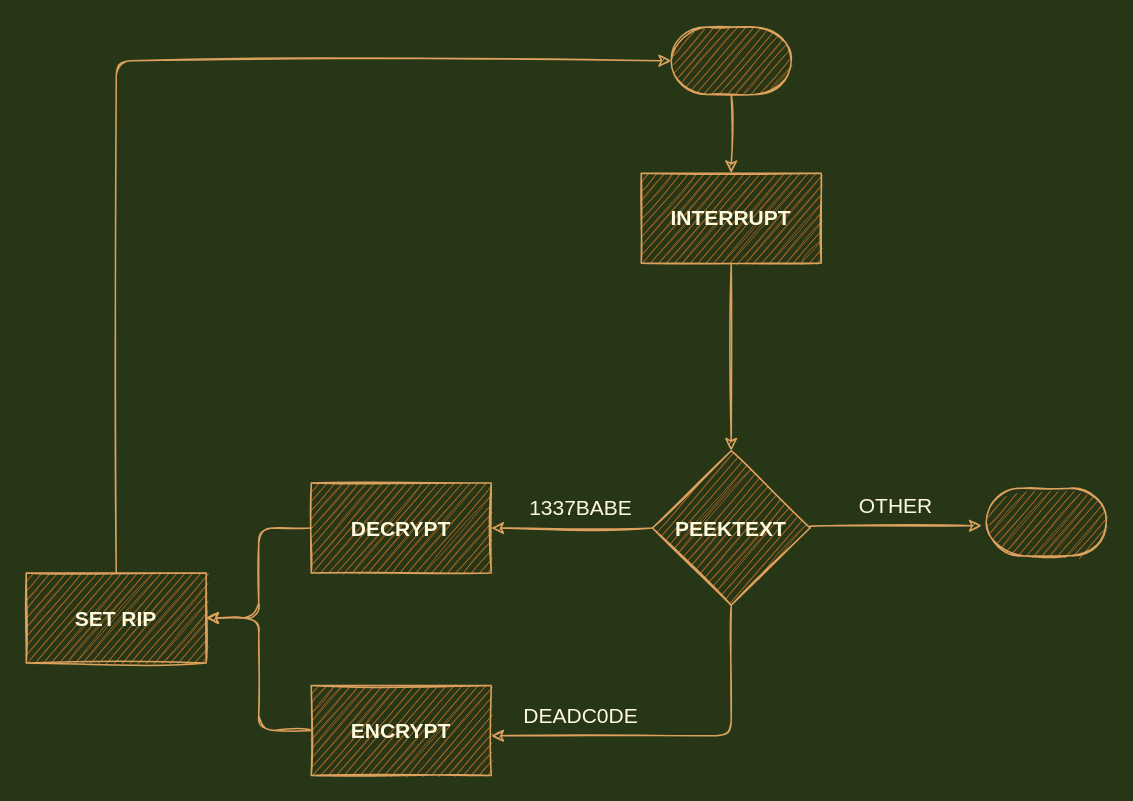
Image size: 1133x801. Some labels were removed from this diagram. The box of each missing label's shape, as (x1, y1, x2, y2) in pixels:
END: (985, 487, 1106, 556)
RUN: (670, 26, 791, 94)
